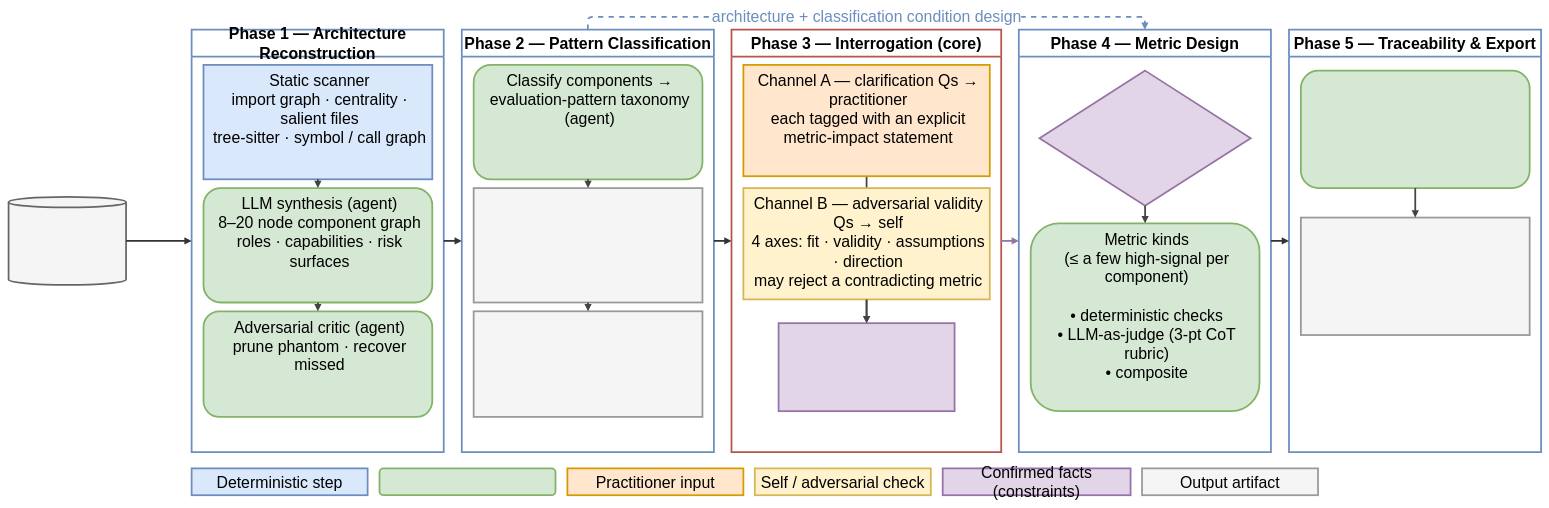
This 1549x508 diagram has some shape labels left out. Each missing label, with the centre of its shape:
"Confirmed facts = hard constraints" belongs at pixel 866 367.
"Constraint gate admit / reject / re-scope" belongs at pixel 1144 138.
"Cross-cutting: RAG · agentic → reference metric families" belongs at pixel 588 364.
"Export runnable artifacts per-stage, justified metric portfolio" belongs at pixel 1415 276.
"LLM agent step" belongs at pixel 467 481.
"Map evaluation metrics → monitoring counterparts" belongs at pixel 1415 129.
"Pipeline stages acquisition · knowledge base AI core · assurance" belongs at pixel 588 245.
"Source code repository (only input)" belongs at pixel 67 241.
